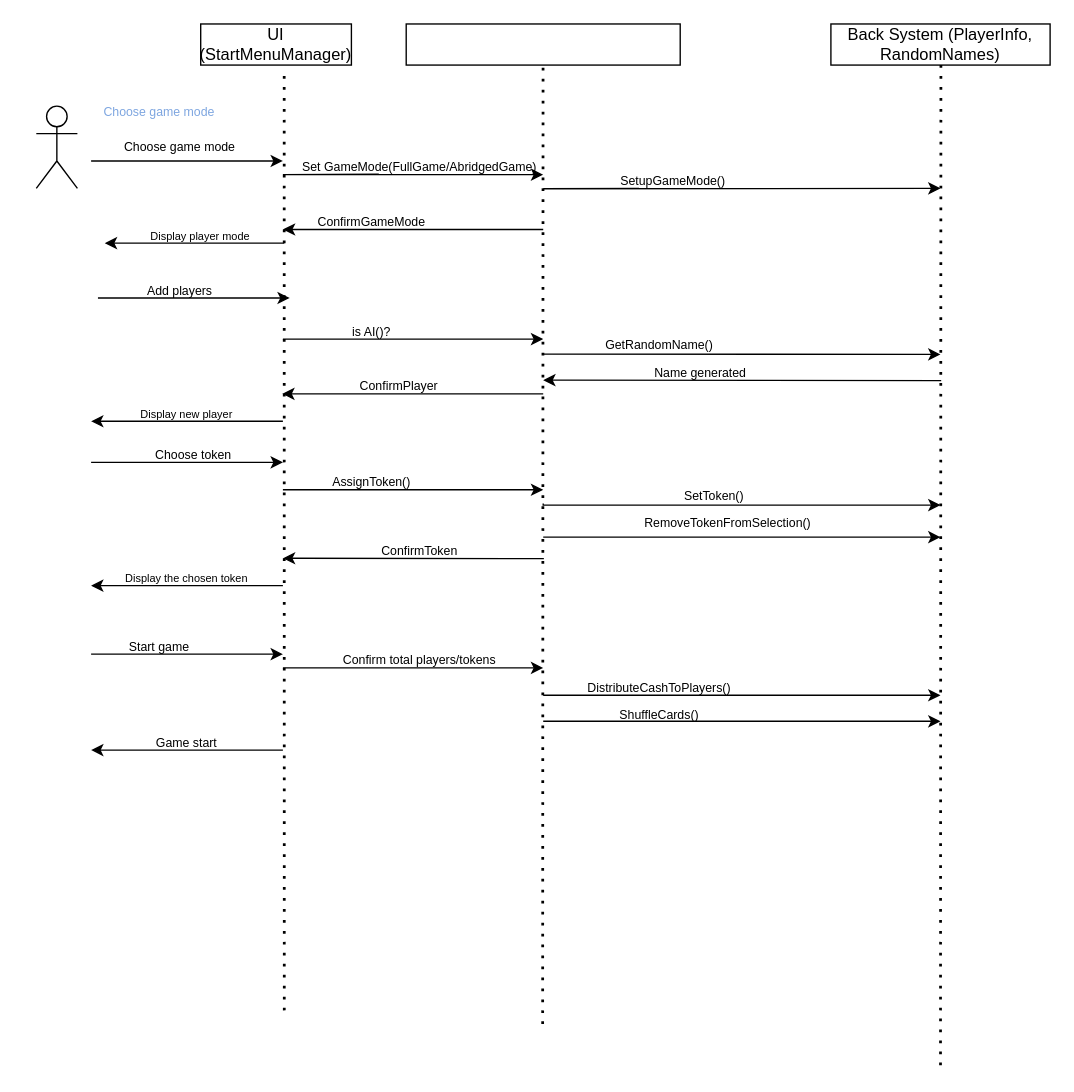
Image size: 1074x1092. Some labels were removed from this diagram. Here are the shapes that lost their labels. From the top down, the centre of each, then its label:
At (542,44): "GameControl (GameController/PlayerConfigurator)".
At (56,146): "Player/AI".
